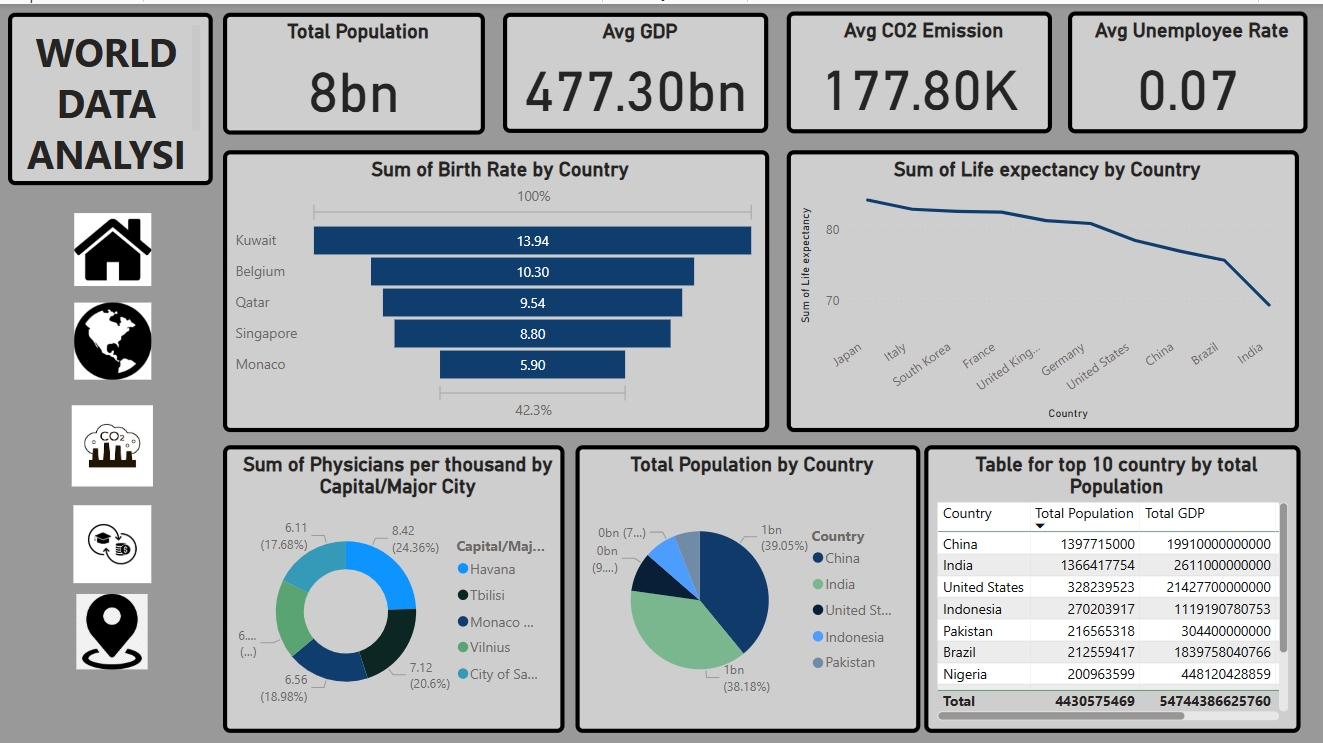

Layout of this report page (visuals, bound fields, positions):
{"tool":"powerbi","page":{"name":"HOME","canvas":[1280,720],"ordinal":0},"visuals":[{"type":"card","title":"Total Population","fields":{"Values":["Measures (2).Total Population"]},"box":[217.1,8.9,252.7,117.5],"z":0},{"type":"card","title":"Avg GDP","fields":{"Values":["Measures (2).AVG GDP"]},"box":[487.7,8.9,256.3,115.7],"z":1000},{"type":"card","title":"Avg CO2 Emission","fields":{"Values":["Measures (2).AVG CO2 EMISSIONS"]},"box":[761.7,7.1,256.3,117.5],"z":2000},{"type":"card","title":"Avg Unemployee Rate","fields":{"Values":["Measures (2).AVG Unemployee Rate"]},"box":[1032.3,7.1,231.4,117.5],"z":3000},{"type":"tableEx","title":"Table for top 10 country by total Population ","fields":{"Values":["Worlddata.Country","Measures (2).Total Population","Measures (2).Total GDP","Measures (2).Total Co2 Emissions"]},"box":[893.5,425.4,363.1,277.6],"z":4000},{"type":"donutChart","fields":{"Y":["Sum(Worlddata.Physicians per thousand)"],"Category":["Worlddata.Capital/Major City"]},"box":[217.1,425.4,329.3,277.6],"z":5000},{"type":"pieChart","fields":{"Category":["Worlddata.Country"],"Y":["Measures (2).Total Population"]},"box":[557.1,425.4,332.8,277.6],"z":6000},{"type":"funnel","fields":{"Category":["Worlddata.Country"],"Y":["Sum(Worlddata.Birth Rate)"]},"box":[217.1,140.6,526.8,272.3],"z":7000},{"type":"lineChart","fields":{"Category":["Worlddata.Country"],"Y":["Sum(Worlddata.Life expectancy)"]},"box":[761.7,140.6,494.8,272.3],"z":8000},{"type":"textbox","box":[10,8.5,197.7,166.4],"z":9000},{"type":"image","box":[68.3,186.3,83.9,102.4],"z":9001},{"type":"image","box":[68.3,257.4,83.9,136.5],"z":9002},{"type":"image","box":[66.8,315.7,88.2,220.4],"z":9003},{"type":"image","box":[5.7,564.6,207.6,82.5],"z":9005},{"type":"image","box":[66.8,479.3,88.2,85.3],"z":9006}]}

Visuals, with their boxes in screenshot pixels (x1, y1, x2, y2), scaled from the page's 1280x720 canvas onto the 1323x743 screenshot:
"Total Population" card: Rect(224, 9, 486, 130)
"Avg GDP" card: Rect(504, 9, 769, 129)
"Avg CO2 Emission" card: Rect(787, 7, 1052, 129)
"Avg Unemployee Rate" card: Rect(1067, 7, 1306, 129)
"Table for top 10 country by total Population " tableEx: Rect(924, 439, 1299, 725)
donutChart - Sum(Worlddata.Physicians per thousand) x Worlddata.Capital/Major City: Rect(224, 439, 565, 725)
pieChart - Worlddata.Country x Measures (2).Total Population: Rect(576, 439, 920, 725)
funnel - Worlddata.Country x Sum(Worlddata.Birth Rate): Rect(224, 145, 769, 426)
lineChart - Worlddata.Country x Sum(Worlddata.Life expectancy): Rect(787, 145, 1299, 426)
textbox: Rect(10, 9, 215, 180)
image: Rect(71, 192, 157, 298)
image: Rect(71, 266, 157, 406)
image: Rect(69, 326, 160, 553)
image: Rect(6, 583, 220, 668)
image: Rect(69, 495, 160, 583)
